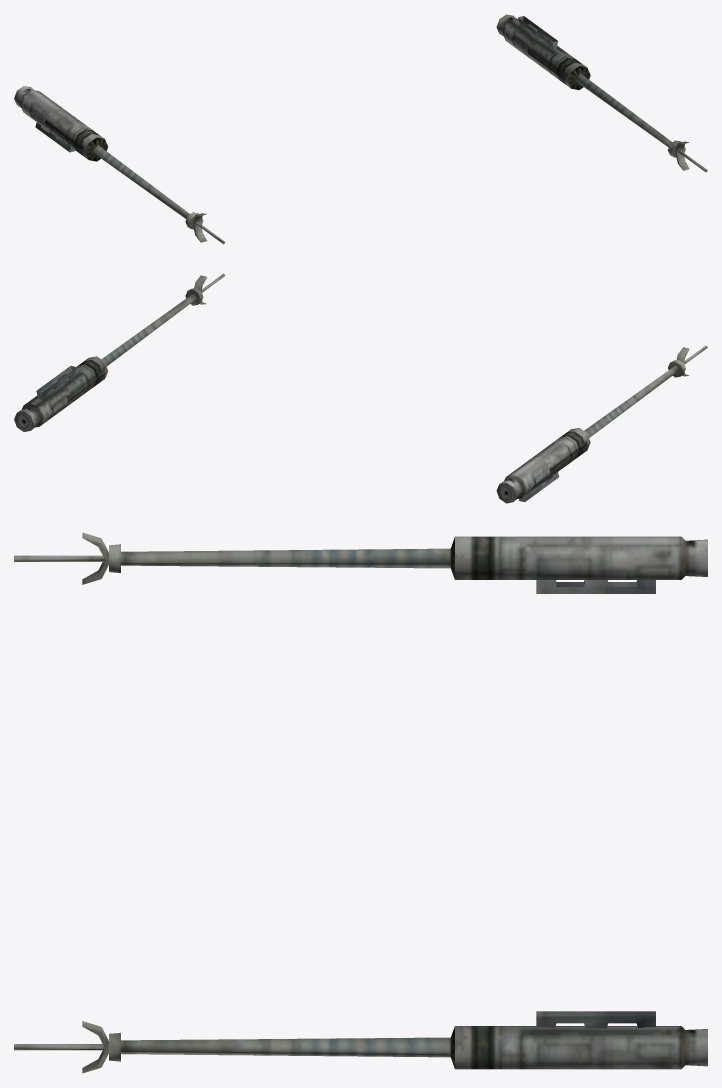
Rendered from xwing_weapon1_pos_s01_l1.fbx.
3 views of the same model, one above another, from view 1: azimuth 30°, elevation 25°; view 2: azimuth 150°, elevation 25°; view 3: azimuth 270°, elevation 25° (orthographic). The views are drawn at different scales.
Parts seen in each view (by area): view 1: mesh_node; view 2: mesh_node; view 3: mesh_node.
Part boxes in pixels (bbox=[...]): mesh_node: bbox=[14, 14, 707, 244]; mesh_node: bbox=[14, 273, 707, 503]; mesh_node: bbox=[14, 532, 707, 1073].
Bounding box in the file's own units: 13.03 × 1.8 × 8.92.
Materials: 1 (1 with a texture image).
